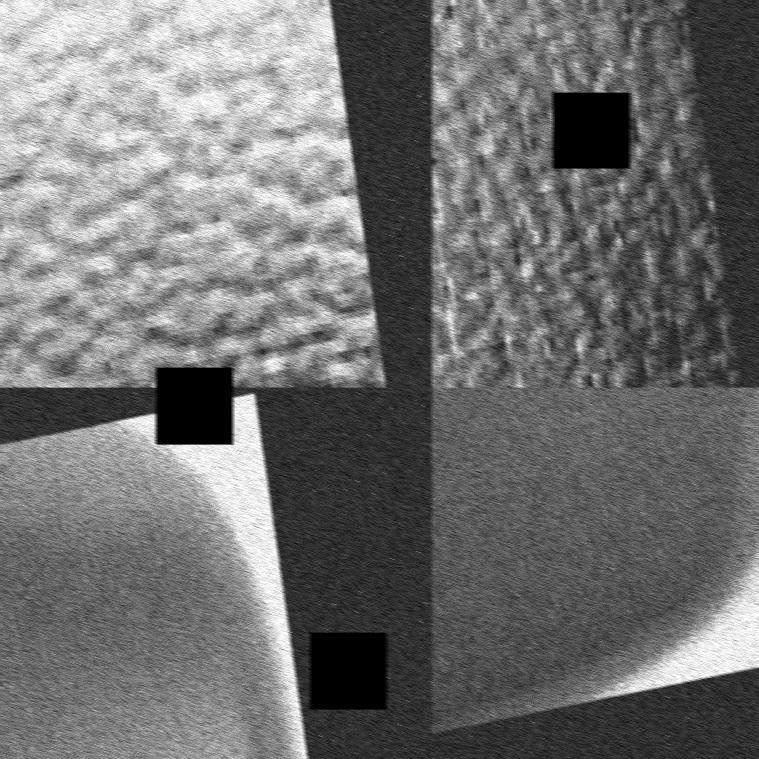AirbagV2: (0, 0, 432, 387), (0, 389, 393, 759), (431, 0, 759, 387), (431, 387, 759, 759)
